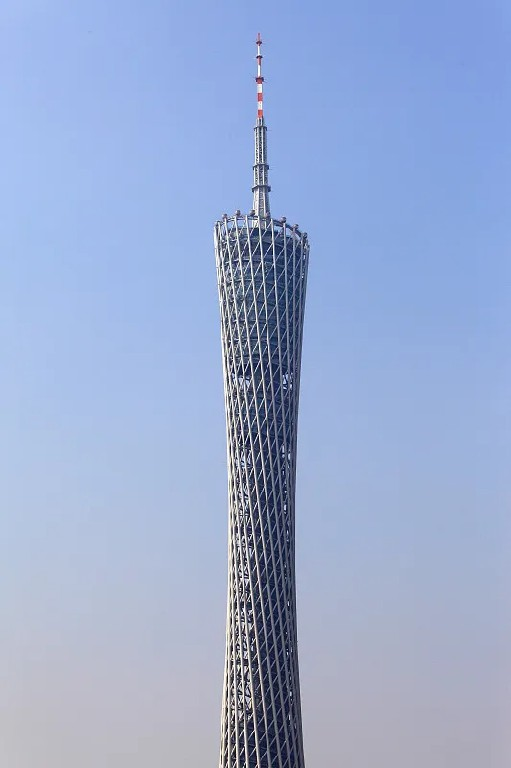Canton: (211, 29, 313, 767)
